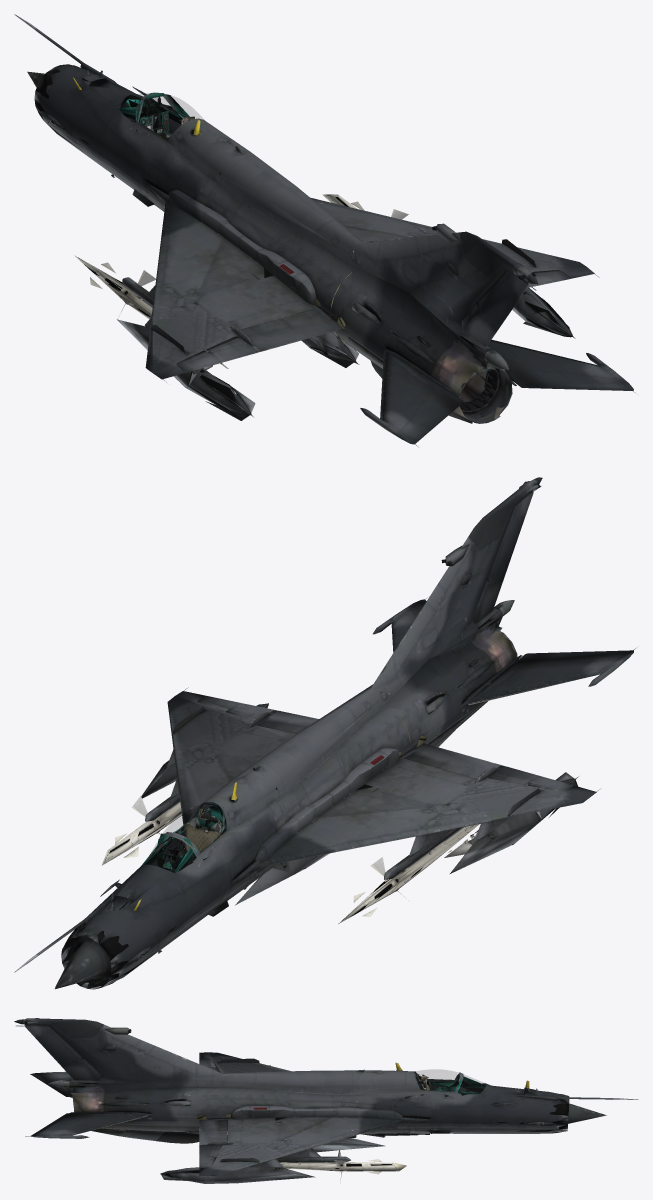
Rendered from mig21_hostile_lod1.glb.
3 views of the same model, one above another, from view 1: azimuth 30°, elevation 25°; view 2: azimuth 150°, elevation 25°; view 3: azimuth 270°, elevation 25° (orthographic). The views are drawn at different scales.
Visible parts, largest first — view 1: airframe, stab_L_airframe, underside, stab_R_airframe, ventral, rudder_airframe, flap_L_airframe, stores, cockpit_interior, aileron_L_airframe; view 2: airframe, stab_L_airframe, underside, stores, ventral, rudder_airframe, cockpit_interior, flap_L_airframe, gear_doors, cockpit_seat, aileron_L_airframe, stab_R_airframe (+3 smaller); view 3: airframe, underside, stab_R_airframe, ventral, rudder_airframe, stores, cockpit_interior, flap_R_airframe, stab_L_airframe, gear_doors, pylons, aileron_R_airframe (+1 smaller).
Boxes of the visible parts, x1,y1,x2,y2 form: airframe: (14, 14, 634, 446); stab_L_airframe: (360, 348, 463, 444); underside: (117, 287, 575, 420); stab_R_airframe: (487, 339, 633, 390); ventral: (168, 189, 316, 304); rudder_airframe: (462, 270, 528, 346); flap_L_airframe: (240, 308, 343, 351); stores: (74, 194, 408, 369); cockpit_interior: (118, 92, 203, 140); aileron_L_airframe: (176, 336, 257, 372); airframe: (14, 477, 635, 989); stab_L_airframe: (461, 650, 633, 706); underside: (141, 703, 578, 905); stores: (102, 795, 479, 923); ventral: (255, 747, 399, 861); rudder_airframe: (472, 492, 533, 624); cockpit_interior: (141, 800, 226, 873); flap_L_airframe: (404, 743, 501, 778); gear_doors: (145, 793, 463, 879); cockpit_seat: (181, 805, 221, 853); aileron_L_airframe: (488, 766, 573, 791); stab_R_airframe: (373, 599, 426, 652); airframe: (14, 1018, 638, 1175); underside: (160, 1138, 384, 1183); stab_R_airframe: (30, 1112, 152, 1138); ventral: (231, 1106, 402, 1119); rudder_airframe: (25, 1026, 101, 1080); stores: (280, 1149, 406, 1183); cockpit_interior: (412, 1072, 485, 1095); flap_R_airframe: (199, 1119, 227, 1144); stab_L_airframe: (30, 1071, 72, 1097); gear_doors: (276, 1156, 350, 1162); pylons: (248, 1148, 321, 1167); aileron_R_airframe: (199, 1145, 221, 1168).
Size of the model in its own units: 7.33 by 3.74 by 15.76.
Materials: 12 (11 with a texture image).
